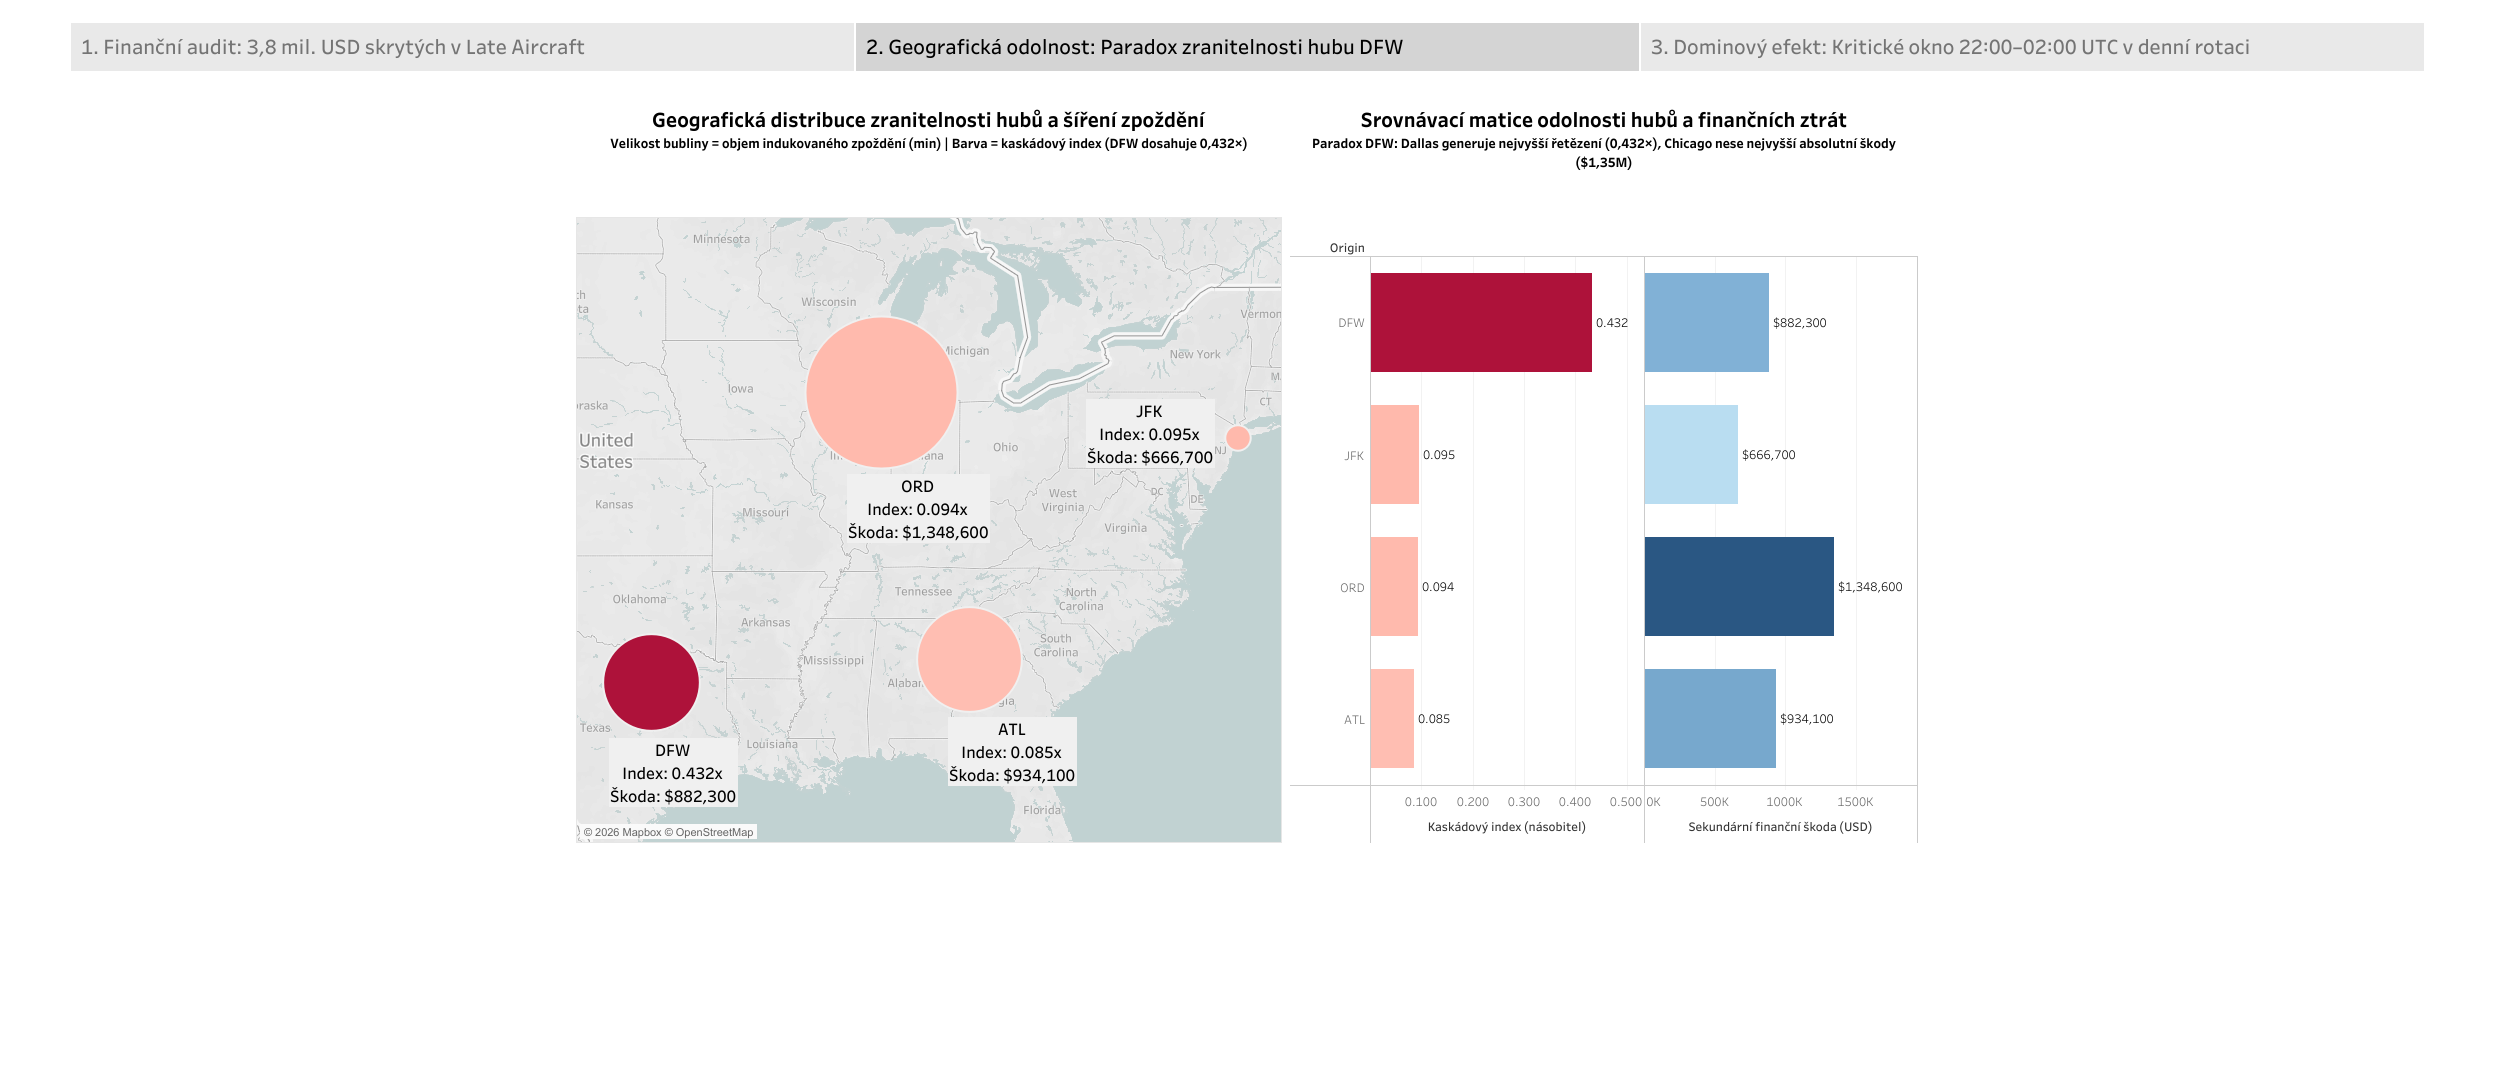

What the dashboard file says about the page in this screenshot:
{"tool":"tableau","page":{"name":"Dashboard 2","canvas":[1366,768],"ordinal":1},"visuals":[{"type":"worksheet","title":"Map_Hub_Locations","mark":"Automatic","box":[8,8,714,752]},{"type":"worksheet","title":"Chart_Hub_Resilience_Matrix","mark":"Automatic","rows":["Origin"],"cols":["cascade_multiplier","induced_cost_usd"],"box":[722,8,636,752]}]}

Visuals, with their boxes on the page's 1366x768 design canvas (x1, y1, x2, y2). These are canvas units, not pixel positions in the 2494x1090 screenshot, which may show the page scaled, cropped or inside an application window:
"Map_Hub_Locations" worksheet: (8, 8, 722, 760)
"Chart_Hub_Resilience_Matrix" worksheet: (722, 8, 1358, 760)
